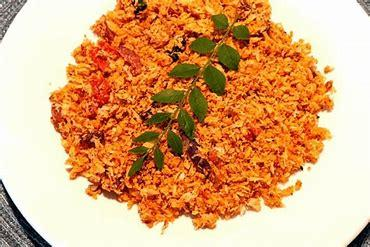Pol Sambol: (38, 7, 342, 223)
